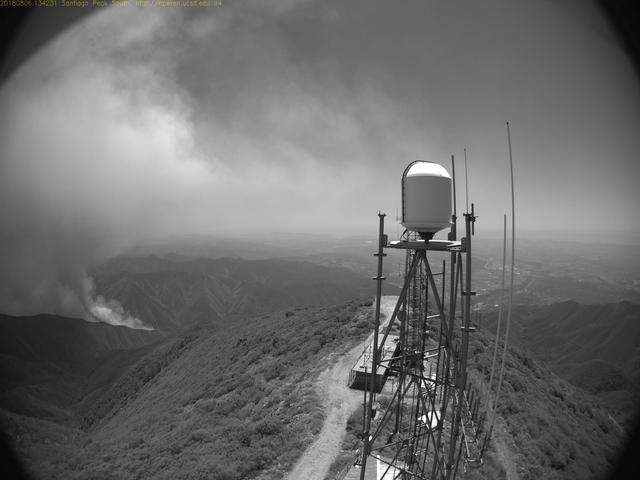Smoke: (0, 79, 169, 336)
